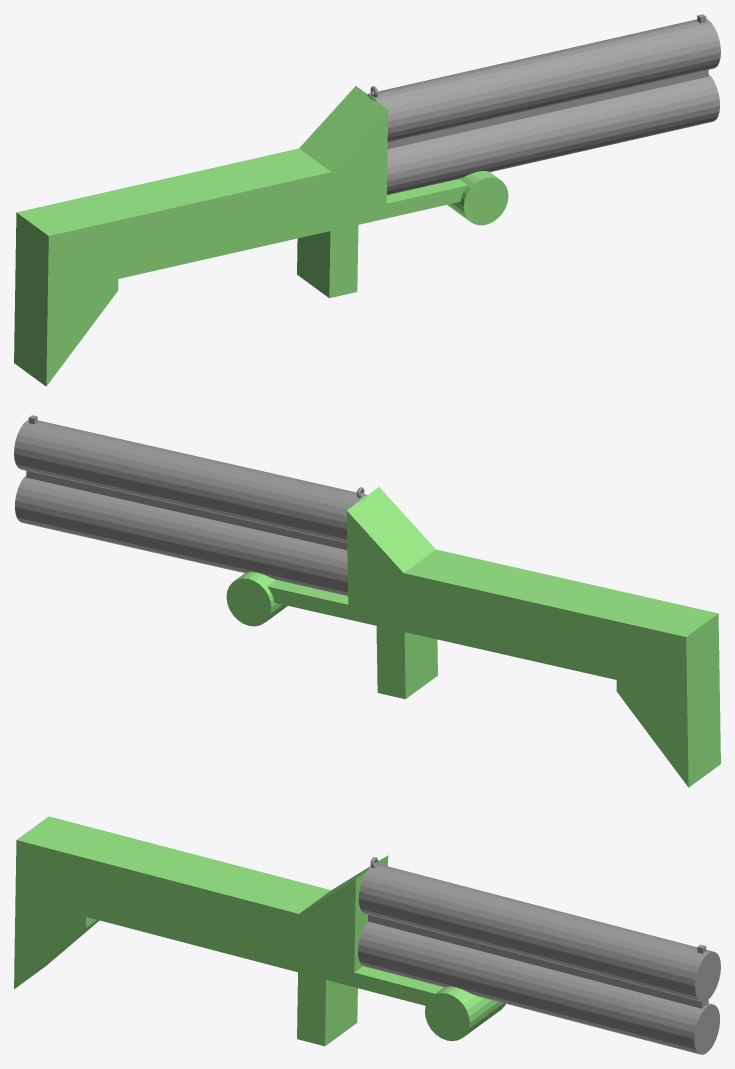
File: DoubleBarrelShotgun.fbx
The picture shows the model from 3 angles, top to bottom: view 1: azimuth 30°, elevation 25°; view 2: azimuth 150°, elevation 25°; view 3: azimuth 330°, elevation 25°; orthographic projection.
Parts seen in each view (by area): view 1: Stock, Barrels; view 2: Stock, Barrels; view 3: Stock, Barrels.
Boxes of the visible parts, bbox=[...] form: Stock: bbox=[14, 86, 508, 386]; Barrels: bbox=[367, 14, 720, 194]; Stock: bbox=[226, 487, 720, 787]; Barrels: bbox=[14, 415, 367, 595]; Stock: bbox=[14, 816, 505, 1046]; Barrels: bbox=[358, 857, 720, 1054].
Bounding box in the file's own units: 60.49 × 17.41 × 6.
